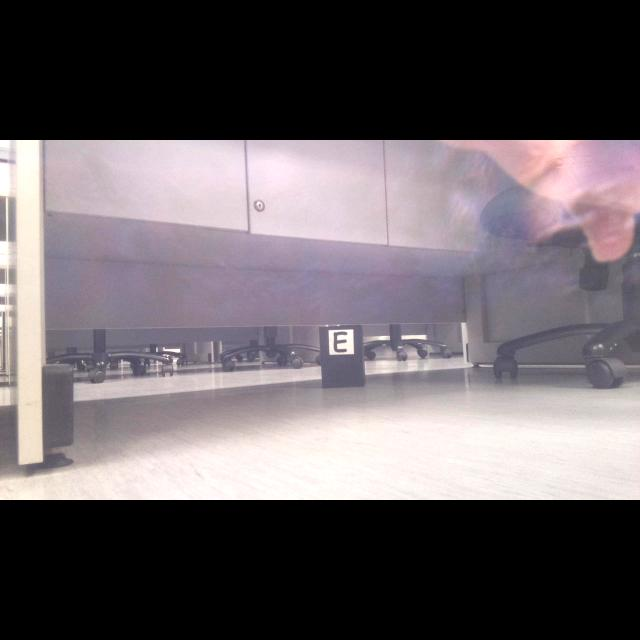E: (334, 331, 348, 353)
